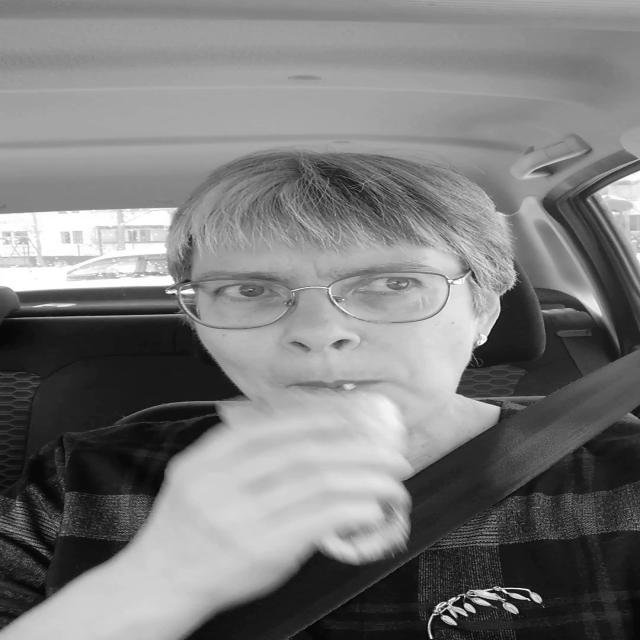Eating: (202, 374, 431, 564)
Seatbelt: (192, 346, 640, 640)
